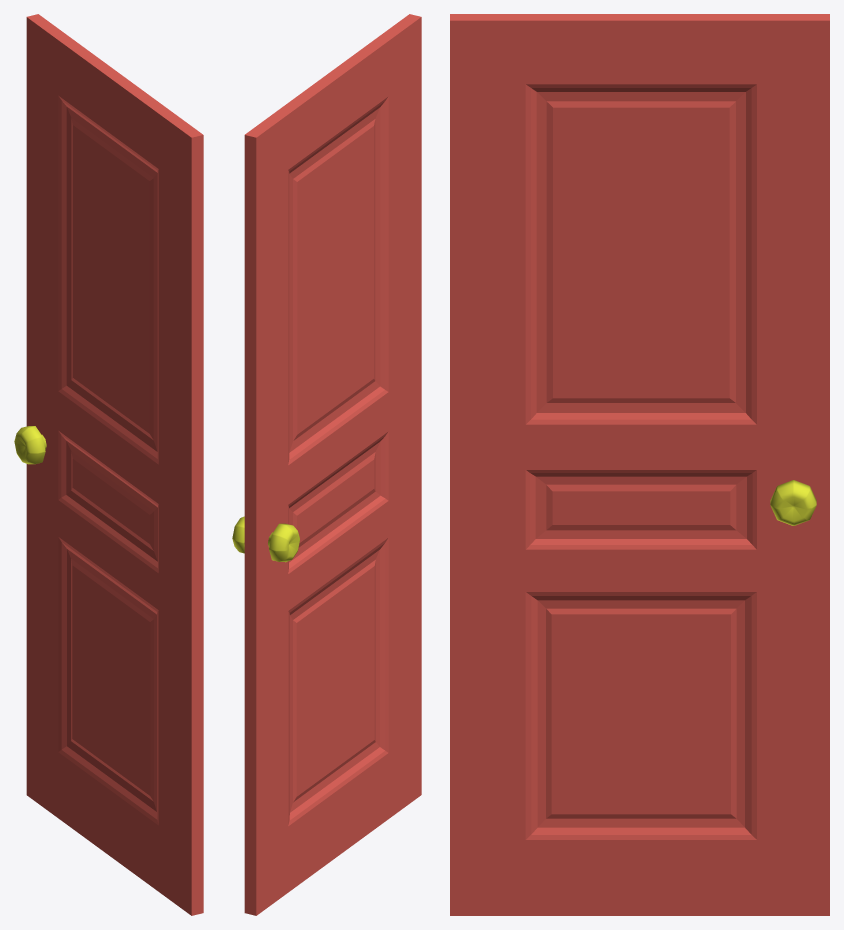
The model's file is hallwaydoorsmall_b001.fbx.
3 views of the same model, side by side, from view 1: azimuth 30°, elevation 25°; view 2: azimuth 150°, elevation 25°; view 3: azimuth 270°, elevation 25° (orthographic). The views are drawn at different scales.
Parts seen in each view (by area): view 1: door_1; view 2: door_1; view 3: door_1.
Part boxes in pixels (x1,y1,x2,y2): door_1: (14,14,203,915); door_1: (232,14,421,915); door_1: (450,14,829,915).
Bounding box in the file's own units: 14.6 × 198 × 76.2.
